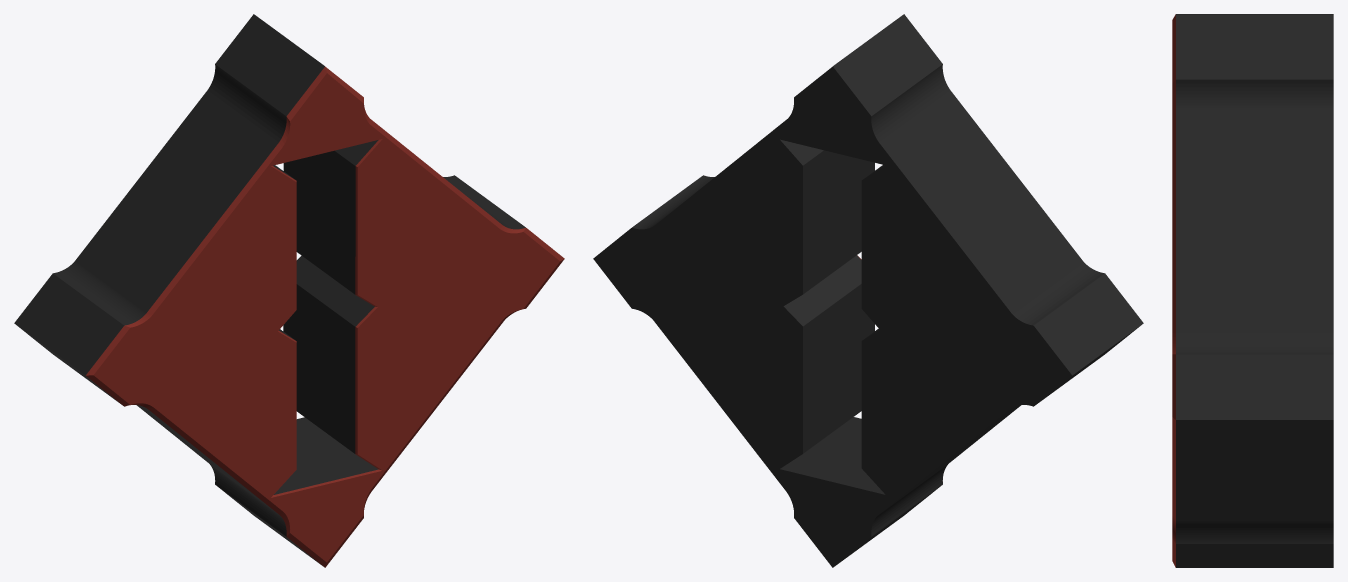
The model's file is icon_base.gltf.
3 views of the same model, side by side, from view 1: azimuth 30°, elevation 25°; view 2: azimuth 150°, elevation 25°; view 3: azimuth 270°, elevation 25° (orthographic). The views are drawn at different scales.
Parts seen in each view (by area): view 1: icon_base; view 2: icon_base; view 3: icon_base.
Boxes of the visible parts, x1,y1,x2,y2 form: icon_base: (14,14,564,567); icon_base: (593,14,1143,567); icon_base: (1172,14,1333,567).
Bounding box in the file's own units: 1.28 × 1.28 × 0.3385.
